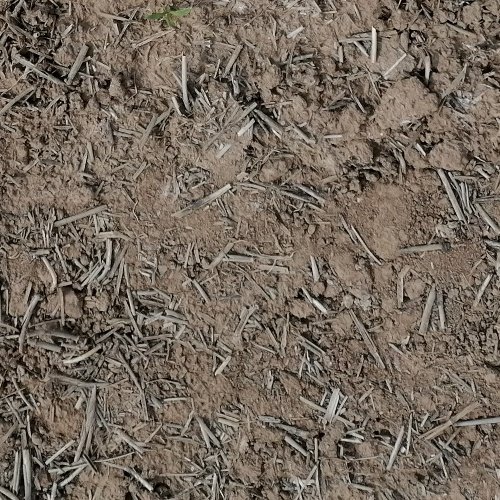beet: (147, 0, 191, 31)
